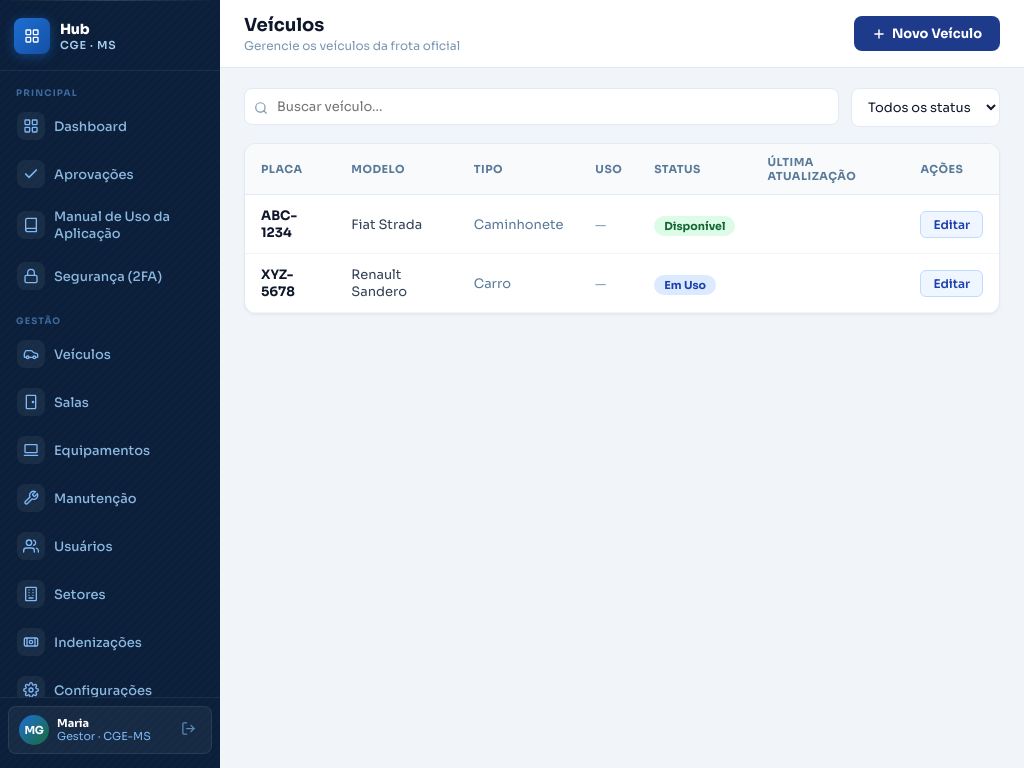
Test case: Veiculos — modal Editar Veículo › clicar Editar abre modal com dados do veículo
Step 1. Click the button "Editar" in the row of "ABC-1234" → [952, 224], box [920,210,983,238]
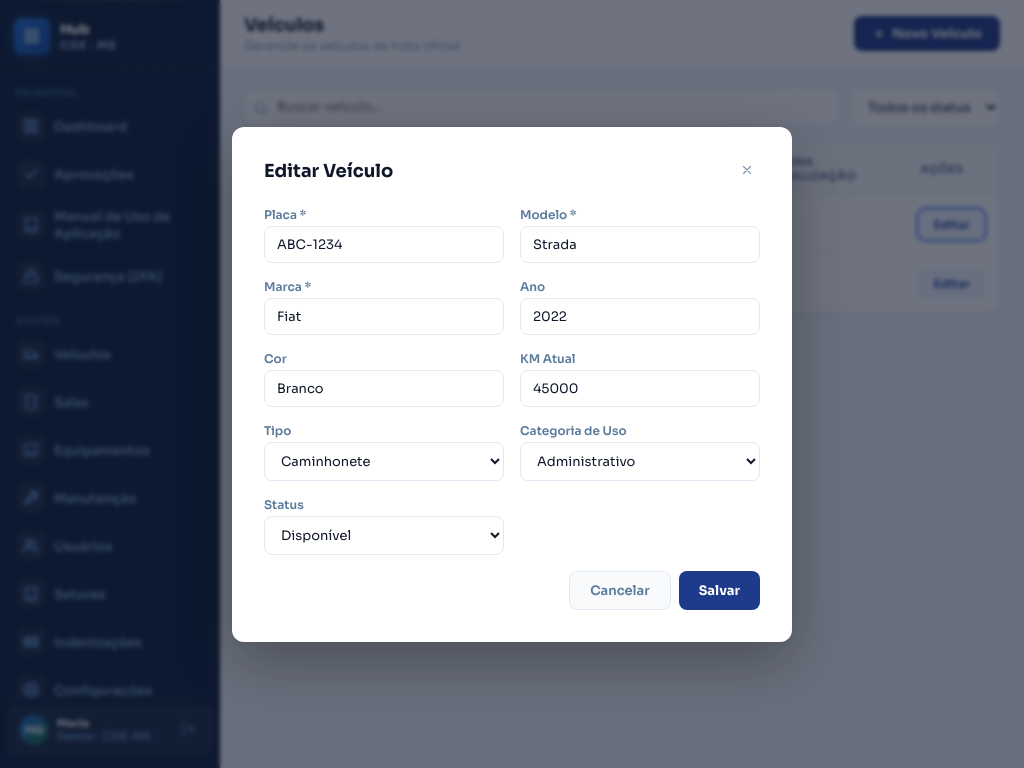
Check: the heading "Editar Veículo" is shown, box [264,160,393,182]
Check: the field showing "ABC-1234" is shown, box [264,226,504,262]
